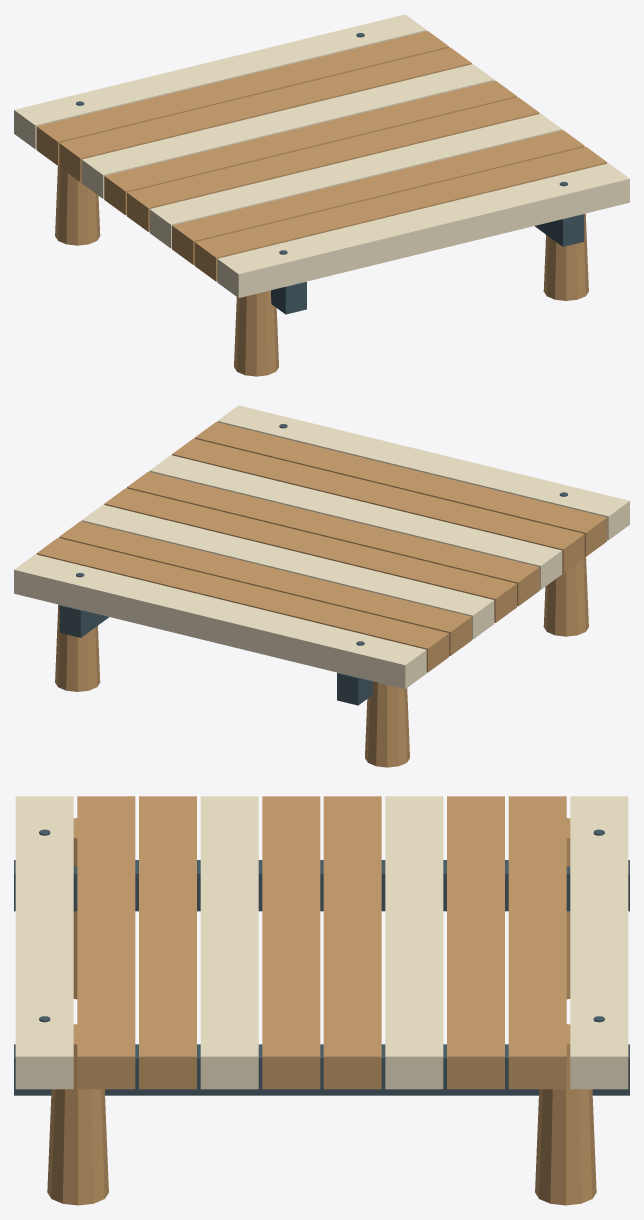
The model's file is dock_platform_quiet_lake_fishing_22399.glb.
3 views of the same model, one above another, from view 1: azimuth 30°, elevation 25°; view 2: azimuth 150°, elevation 25°; view 3: azimuth 270°, elevation 25° (orthographic). The views are drawn at different scales.
Parts seen in each view (by area): view 1: wood, cream, iron; view 2: wood, cream, iron; view 3: wood, cream, iron.
Boxes of the visible parts, x1=… form: wood: x1=36, y1=31, x2=607, y2=376; cream: x1=14, y1=14, x2=629, y2=297; iron: x1=76, y1=33, x2=584, y2=314; wood: x1=36, y1=422, x2=607, y2=767; cream: x1=14, y1=405, x2=629, y2=688; iron: x1=59, y1=424, x2=567, y2=705; wood: x1=47, y1=796, x2=596, y2=1205; cream: x1=15, y1=796, x2=628, y2=1089; iron: x1=14, y1=829, x2=629, y2=1095.
Size of the model in its own units: 2.4 by 0.7059 by 2.4.
